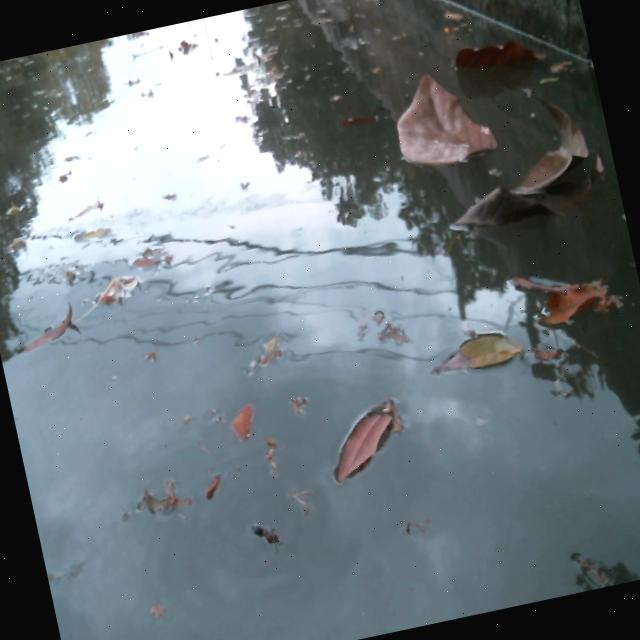Big-leaf: (432, 99, 609, 248), (494, 237, 638, 351), (382, 54, 510, 181), (445, 23, 541, 81)
Small-leaf: (295, 382, 431, 496), (394, 310, 537, 399), (219, 391, 268, 457), (541, 45, 582, 82), (421, 0, 468, 30)
